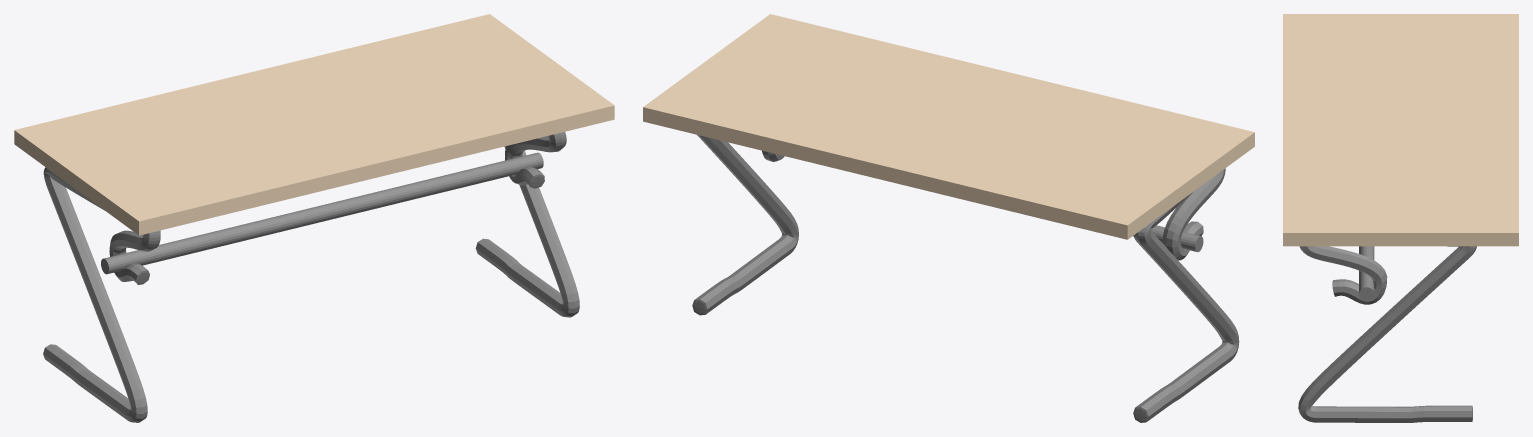
3 renders of one model, left to right at view 1: azimuth 30°, elevation 25°; view 2: azimuth 150°, elevation 25°; view 3: azimuth 270°, elevation 25°, orthographic. The views are drawn at different scales.
Visible parts, largest first — view 1: simple_modern_computer_desk; view 2: simple_modern_computer_desk; view 3: simple_modern_computer_desk.
Boxes of the visible parts, <box> form: simple_modern_computer_desk: <box>14,14,614,422</box>; simple_modern_computer_desk: <box>643,14,1254,422</box>; simple_modern_computer_desk: <box>1283,14,1518,422</box>.
Size of the model in its own units: 0.0592 by 0.0257 by 0.0269.
